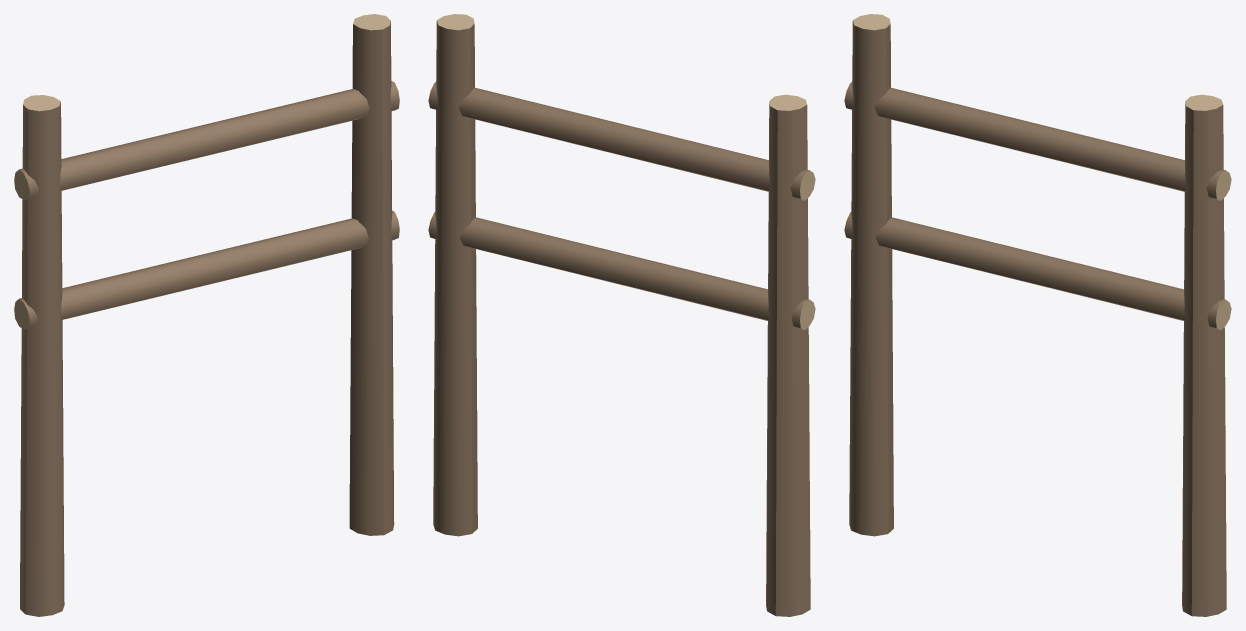
The model's file is log_fence_narrow.glb.
The picture shows the model from 3 angles, left to right: view 1: azimuth 30°, elevation 25°; view 2: azimuth 150°, elevation 25°; view 3: azimuth 330°, elevation 25°; orthographic projection.
Parts seen in each view (by area): view 1: Fence; view 2: Fence; view 3: Fence.
Part boxes in pixels (x1,y1,x2,y2): Fence: (14, 14, 399, 616); Fence: (428, 14, 815, 616); Fence: (844, 14, 1231, 616).
Size of the model in its own units: 1.5 by 1.95 by 0.1664.
